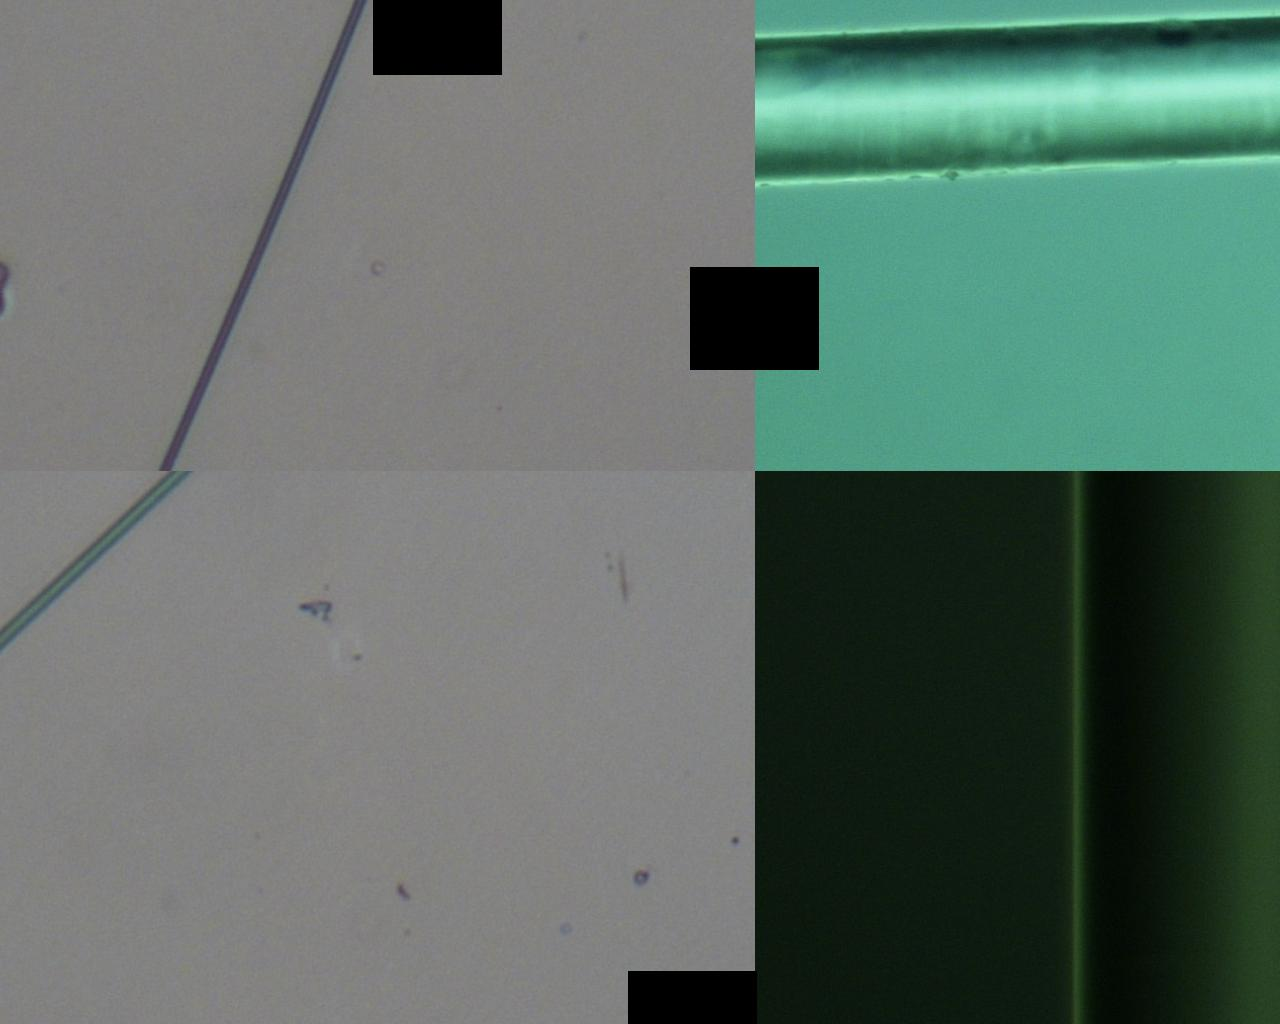fiber: (823, 604, 1280, 1024), (0, 604, 175, 1024), (1004, 0, 1042, 604)
